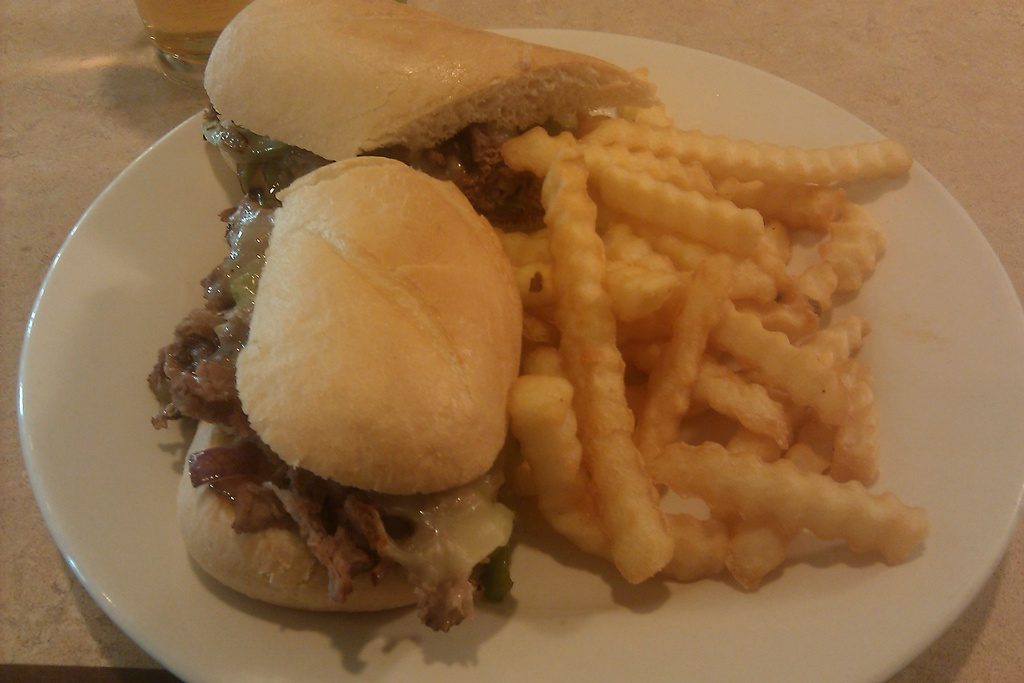French fries: (448, 96, 899, 660)
